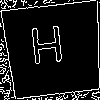H: (28, 25, 67, 74)
